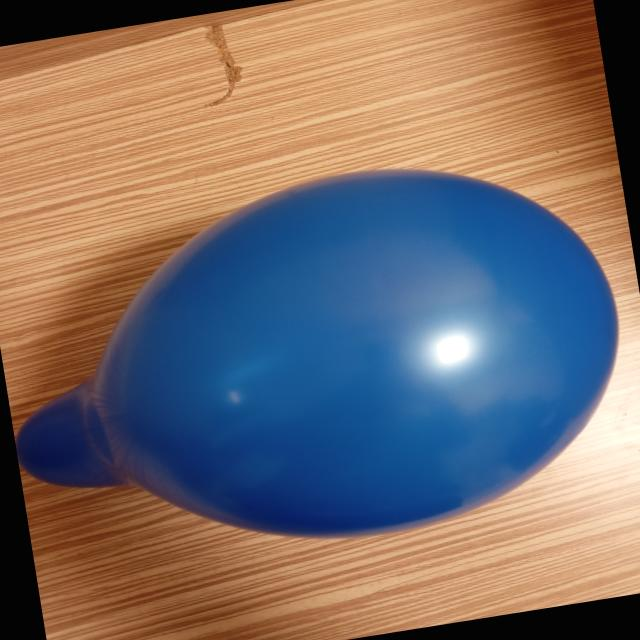balloon: (15, 170, 618, 537)
